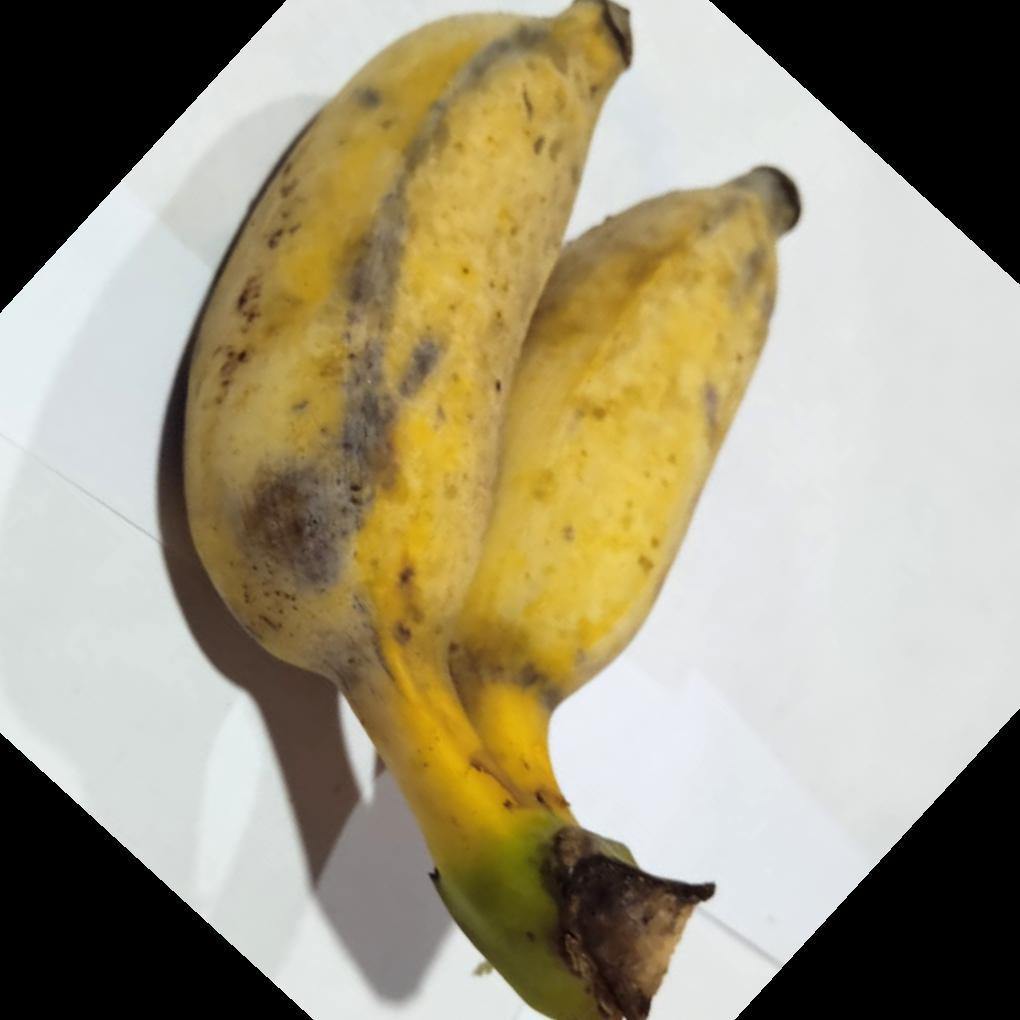Banana Ripe: (189, 0, 805, 1004), (179, 7, 632, 787), (476, 84, 819, 947)
